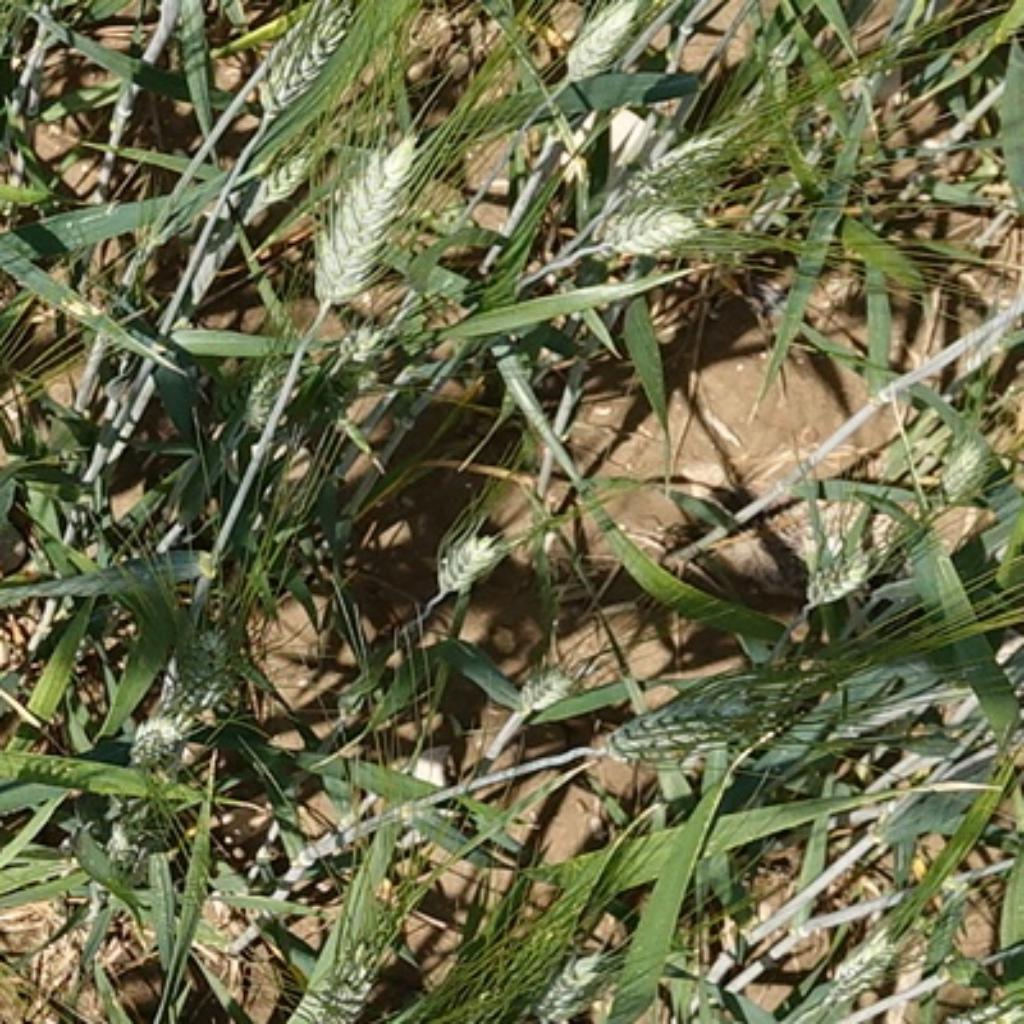0-0: (599, 652, 834, 785), (310, 127, 431, 306), (609, 110, 752, 209), (156, 601, 256, 714), (254, 6, 358, 114), (308, 917, 412, 1024), (583, 181, 711, 256), (803, 522, 903, 614), (233, 131, 331, 219), (816, 926, 908, 1013), (924, 427, 1006, 514), (221, 353, 304, 438), (537, 936, 619, 1018), (557, 1, 645, 76), (429, 518, 511, 597), (506, 642, 583, 711), (97, 811, 158, 888), (120, 704, 189, 762), (327, 319, 384, 369), (328, 362, 376, 413)
